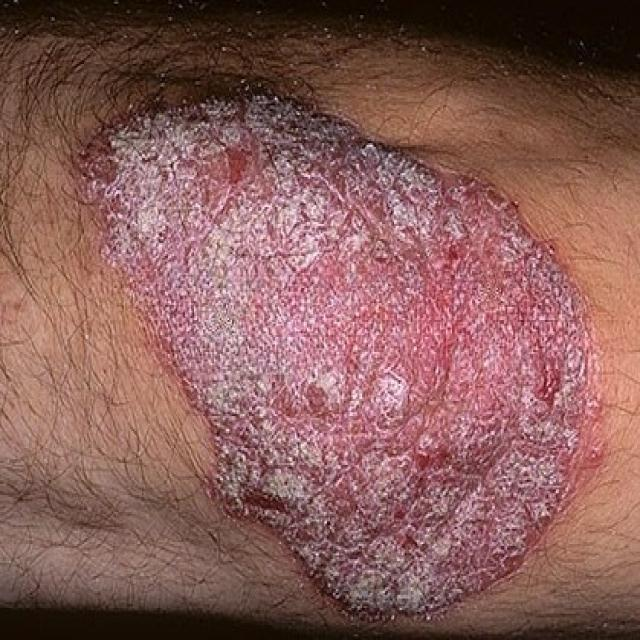Psoriasis Vulgar: (0, 2, 638, 636)
